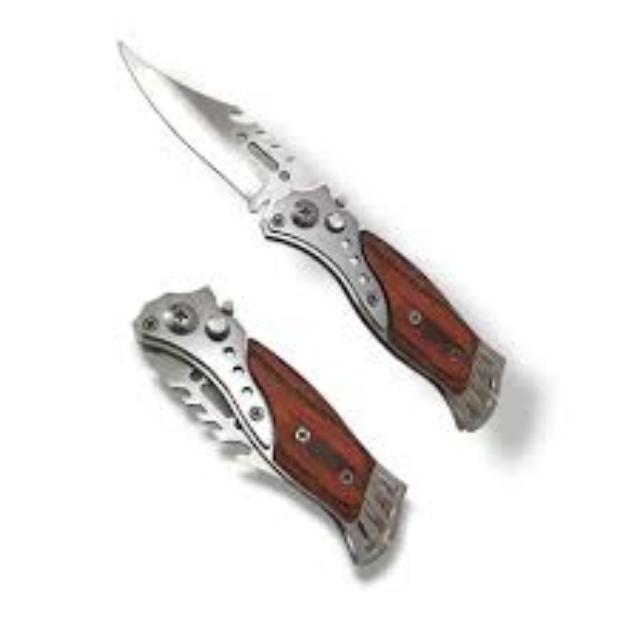Knife: (114, 38, 506, 432)
